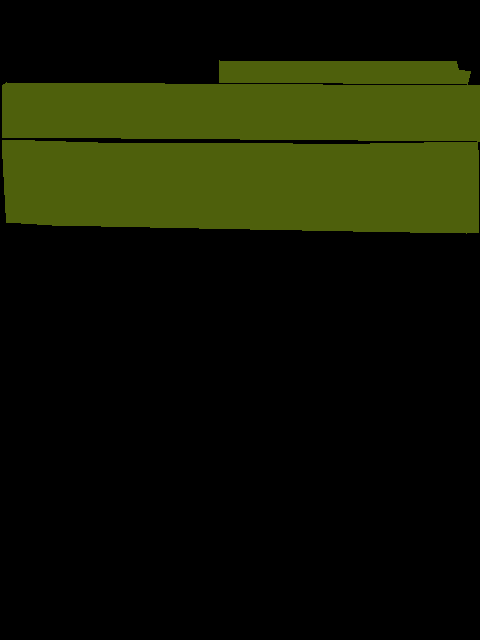Train: (2, 140, 479, 234), (2, 82, 480, 141), (219, 60, 471, 85)
